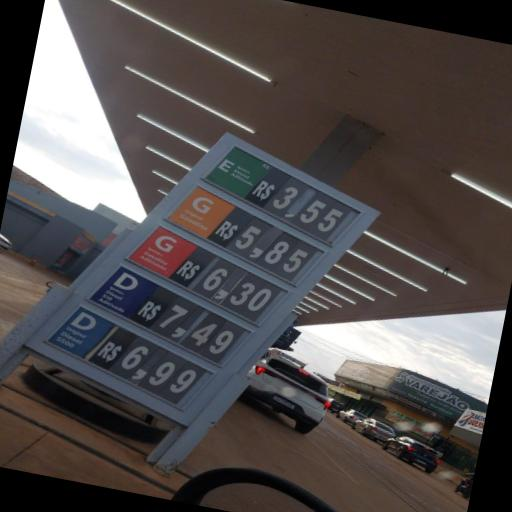ETANOL: (206, 145, 269, 196)
GASOLINA AD: (128, 227, 195, 277)
GASOLINA C: (169, 187, 236, 236)
S10: (92, 267, 158, 317)
S500: (48, 308, 112, 358)
placa: (28, 136, 371, 422)
preco: (108, 336, 208, 406), (148, 294, 247, 362), (192, 259, 285, 323), (263, 175, 354, 240), (226, 217, 318, 280)
